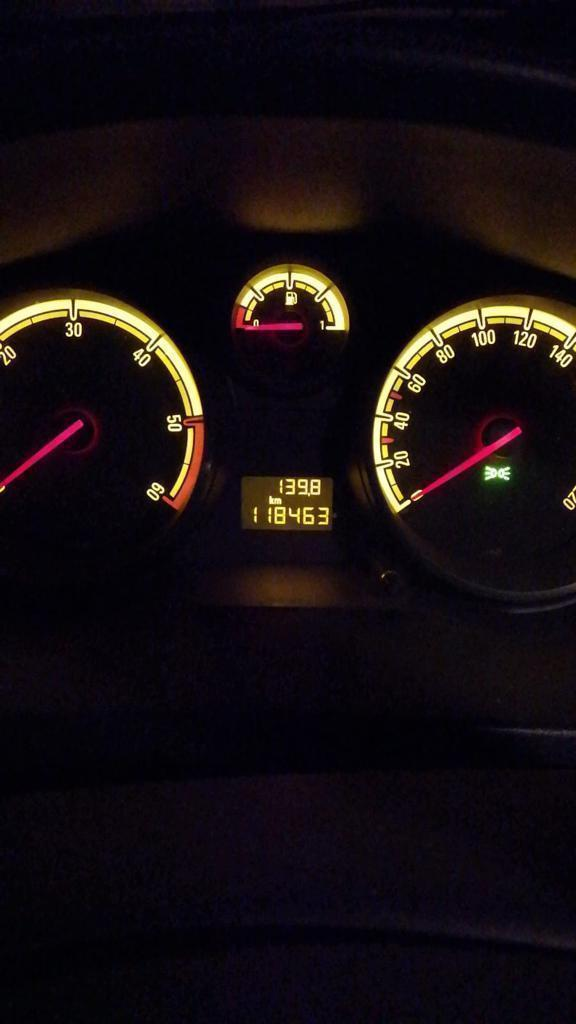,: (307, 492, 310, 497)
1: (251, 504, 259, 524), (264, 505, 272, 524), (277, 477, 284, 494)
3: (317, 505, 329, 526), (284, 477, 296, 496)
6: (302, 505, 314, 525)
8: (273, 505, 286, 524), (310, 477, 321, 495)
9: (297, 478, 307, 495)
X: (268, 494, 274, 505), (274, 497, 281, 505)
odometer: (237, 474, 336, 532)
